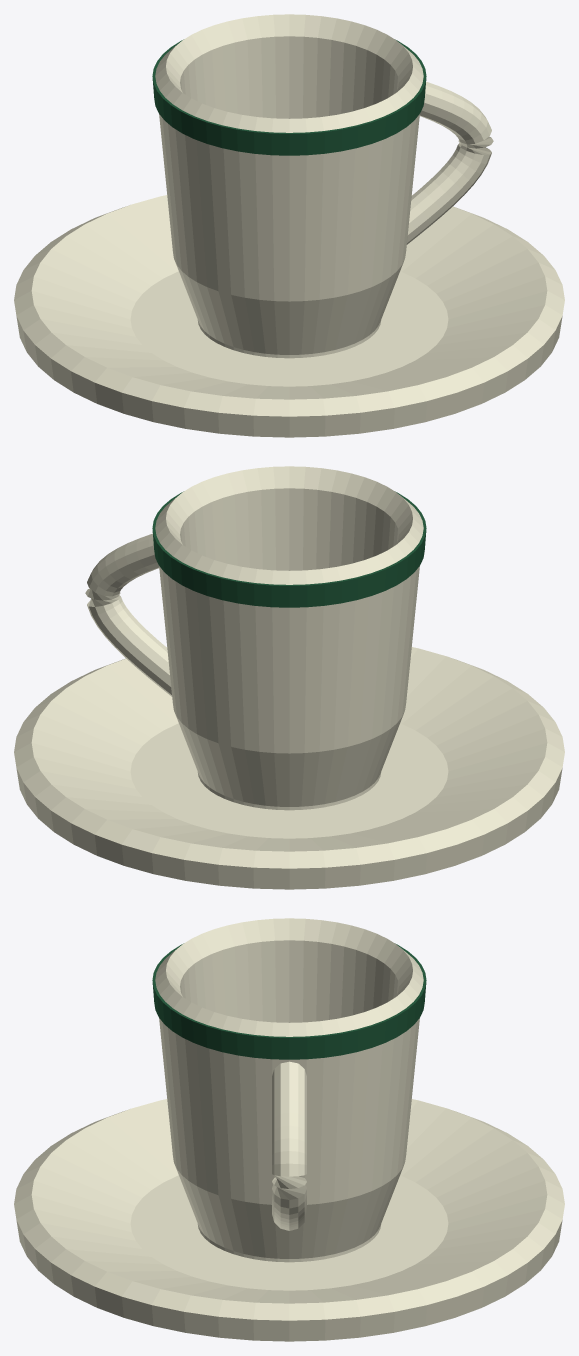
3 views of the same model, one above another, from view 1: azimuth 30°, elevation 25°; view 2: azimuth 150°, elevation 25°; view 3: azimuth 270°, elevation 25° (orthographic).
Visible parts, largest first — view 1: SAUCER_Profile, CUP_HollowBody, BAND_GreenRim, HANDLE_Porcelain, FOOT_CupRing; view 2: SAUCER_Profile, CUP_HollowBody, BAND_GreenRim, HANDLE_Porcelain, FOOT_CupRing; view 3: SAUCER_Profile, CUP_HollowBody, BAND_GreenRim, HANDLE_Porcelain, FOOT_CupRing.
Part boxes in pixels (x1,y1,x2,y2): SAUCER_Profile: (14, 195, 564, 437); CUP_HollowBody: (155, 14, 423, 354); BAND_GreenRim: (152, 39, 426, 155); HANDLE_Porcelain: (407, 81, 493, 244); FOOT_CupRing: (197, 320, 381, 358); SAUCER_Profile: (14, 647, 564, 889); CUP_HollowBody: (155, 466, 423, 806); BAND_GreenRim: (152, 491, 426, 607); HANDLE_Porcelain: (85, 533, 171, 696); FOOT_CupRing: (197, 772, 381, 810); SAUCER_Profile: (14, 1099, 564, 1341); CUP_HollowBody: (155, 918, 423, 1258); BAND_GreenRim: (152, 943, 426, 1059); HANDLE_Porcelain: (272, 1061, 306, 1230); FOOT_CupRing: (197, 1224, 381, 1262).
Bounding box in the file's own units: 0.156 × 0.088 × 0.156.
